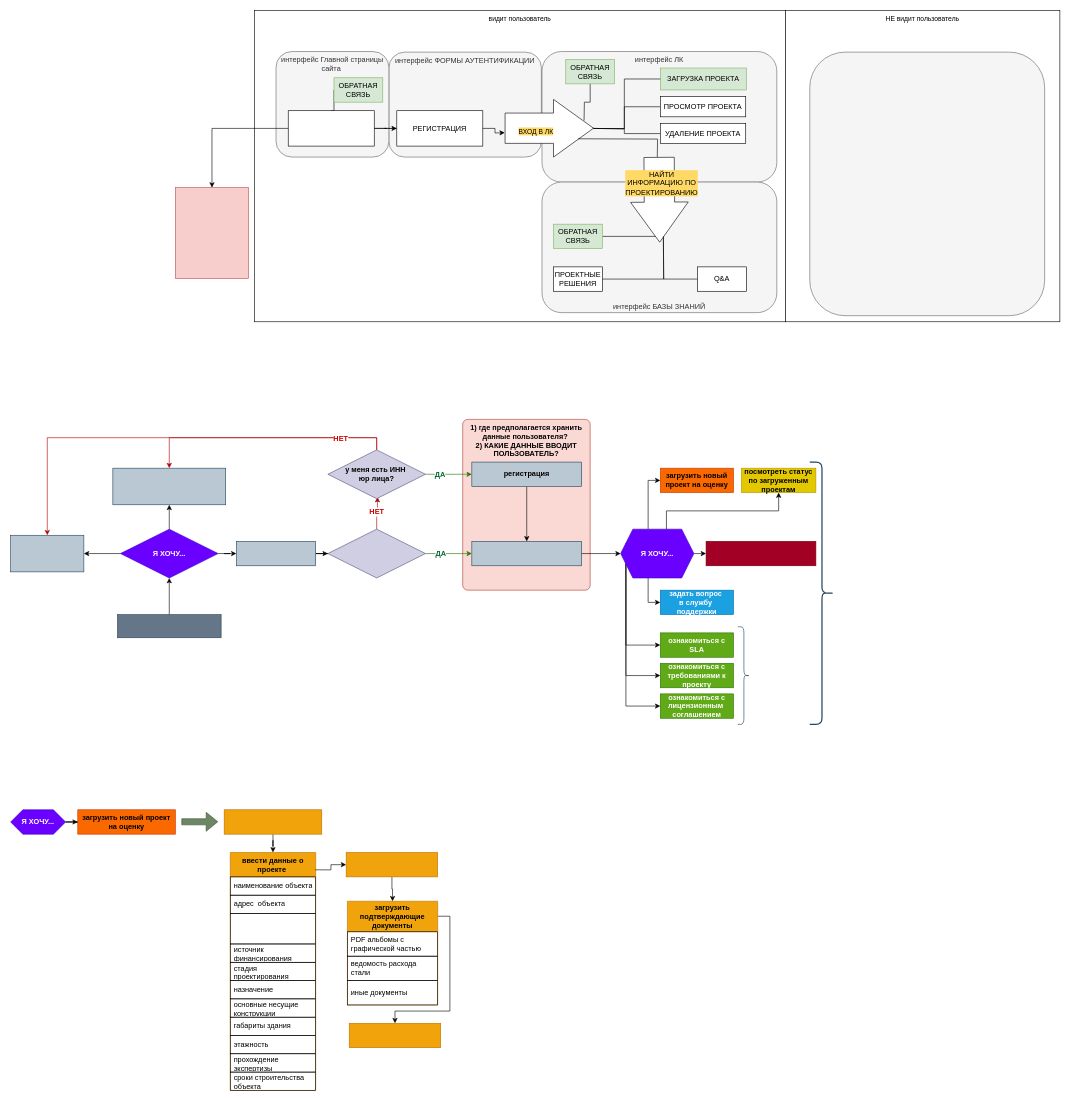
This 1071x1101 diagram has some shape labels left out. The shapes that lost their labels are listed below. From the top down, each one's centre as x and y in pixels, then its label:
At (331,128): "ОЗНАКОМЛЕНИЕ".
At (927,184): "сод / облако / сервер".
At (212,232): "как будет осуществляться доступ на первых этапах?".
At (169,486): "ОЗНАКОМИТЬСЯ С ИНФОРМАЦИЕЙ ЧТО ЭТО ЗА РЕСУРС И ИНСТРУКЦИЕЙ К НЕМУ".
At (47,553): "ИМЕТЬ ВОЗМОЖНОСТЬ ЗАДАТЬ ВОПРОСЫ".
At (276,553): "АВТОРИЗОВАТЬСЯ".
At (376,553): "я зарегестрирован?".
At (526,553): "вход в личный кабинет".
At (760,553): "выйти из личного кабинета".
At (169,626): "Я ЮР ЛИЦО".
At (273,821): "создать новый проект".
At (392,864): "ввести объем двутавра в тоннах в проекте".
At (273,928): "сроки начала и оконочания работ проектирования".
At (395,1035): "передать проект в оценку".
